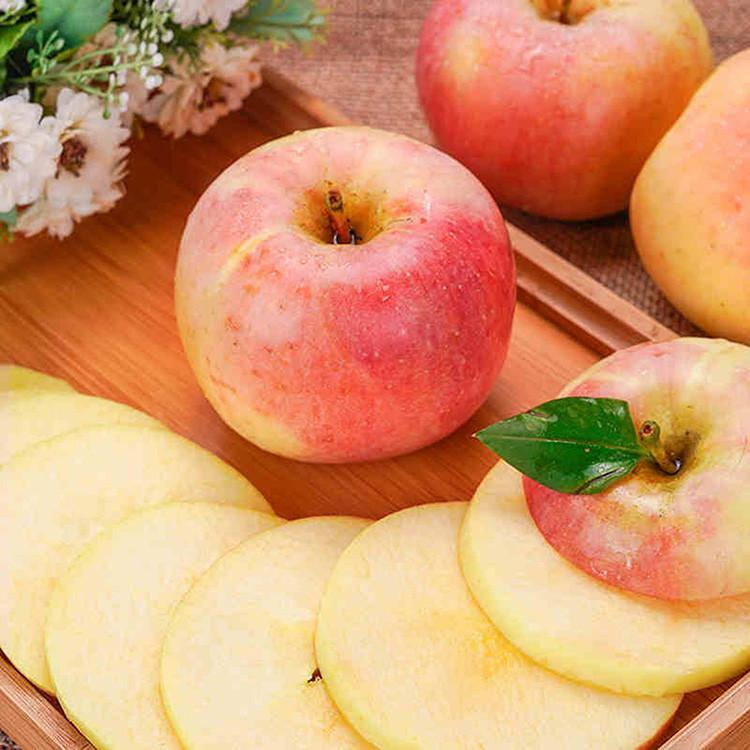apple: (170, 125, 523, 475), (457, 339, 750, 695), (413, 1, 712, 220), (630, 49, 749, 346)
